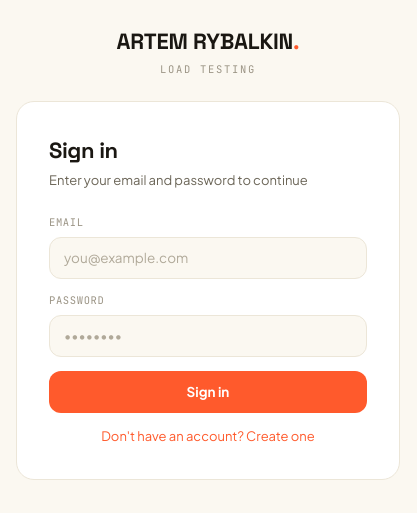
Test: LoginPage — sign in mode › shows an error message when login() rejects
In the field with placeholder "you@example.com": (208, 258) [49,236,367,279], type "alice@example.com"
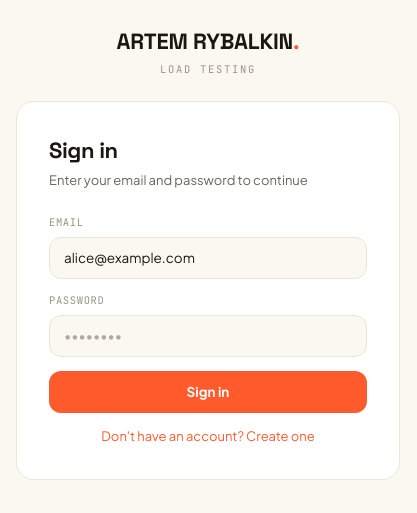
In the password field with placeholder "••••••••": (208, 336) [49,314,367,357], type "password123"
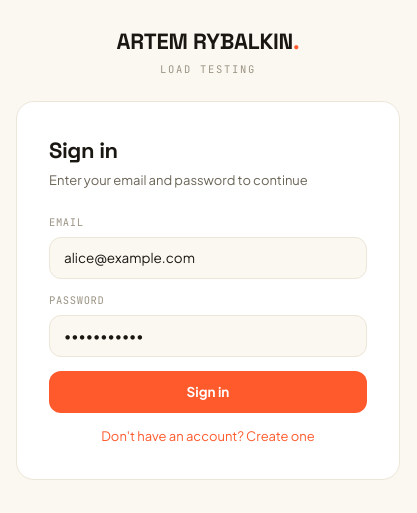
Click the button "Sign in": (208, 392) [49,371,367,413]
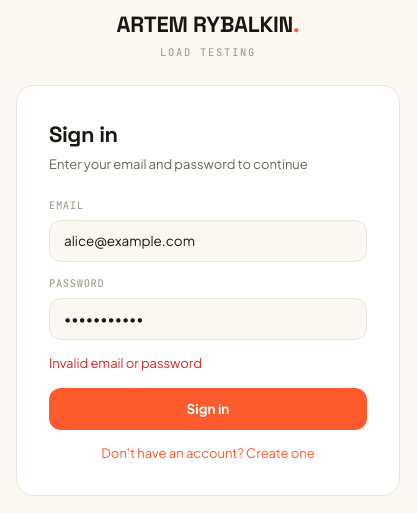
Now the text "Invalid email or password" is shown, box [49,355,202,371]
